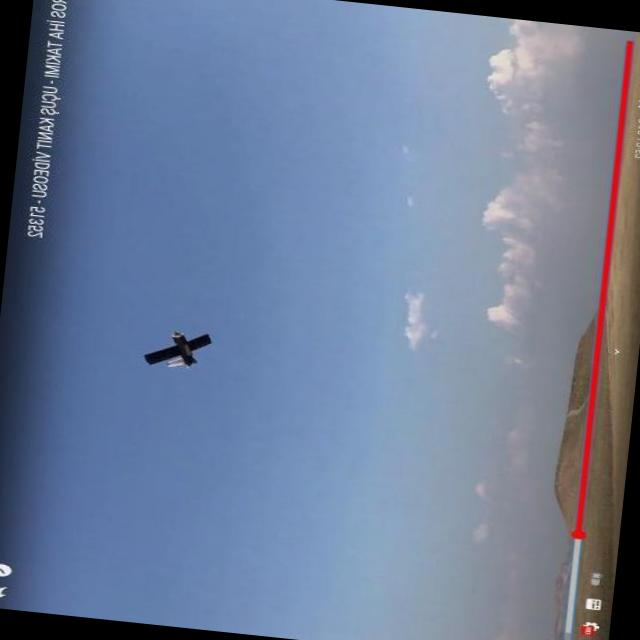UAV: (130, 319, 208, 403)
